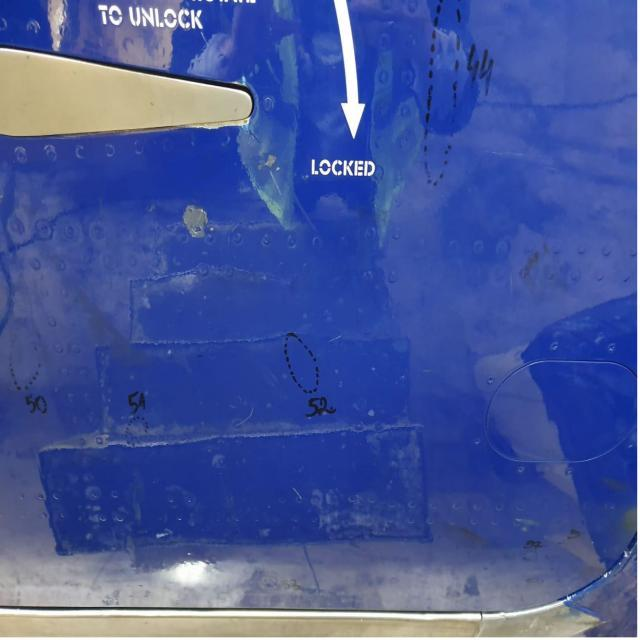crack: (243, 123, 263, 148)
